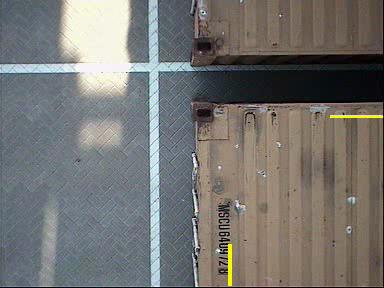groundmarker_2: (31, 43, 135, 117)
